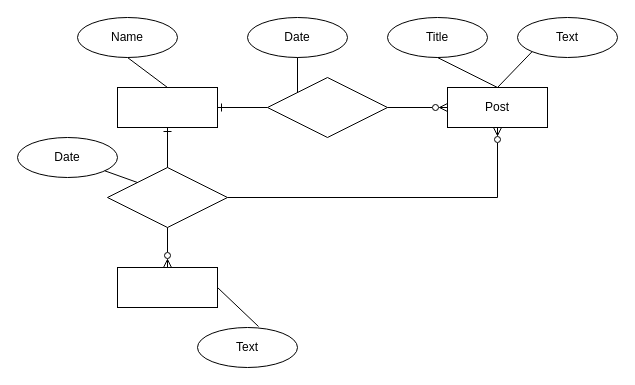
The diagram is 635 pixels wide and 385 high, and some of its shapes have lost their labels. The shapes that lost their labels are listed below. From the top down, each one's centre as x and y in pixels, then its label:
At [167,107]: "Creator".
At [327,107]: "creates".
At [167,197]: "creates comments to posts".
At [167,287]: "Comment".
